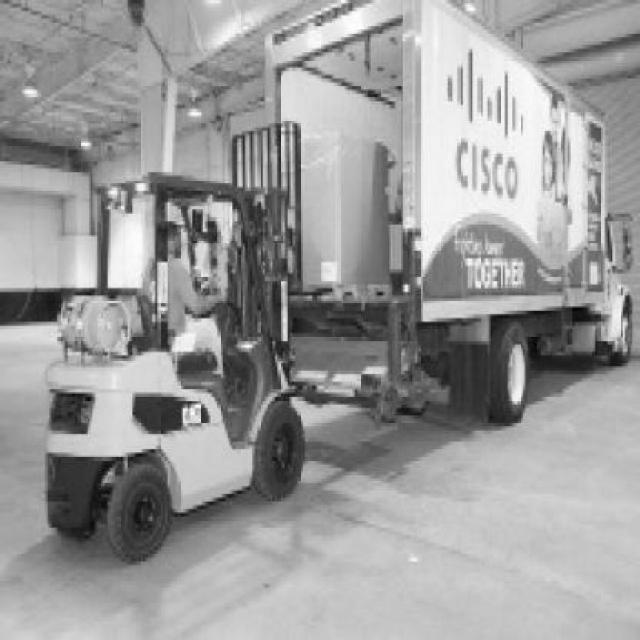Box Truck: (267, 0, 640, 427)
Construction Equipment: (44, 175, 307, 566)
